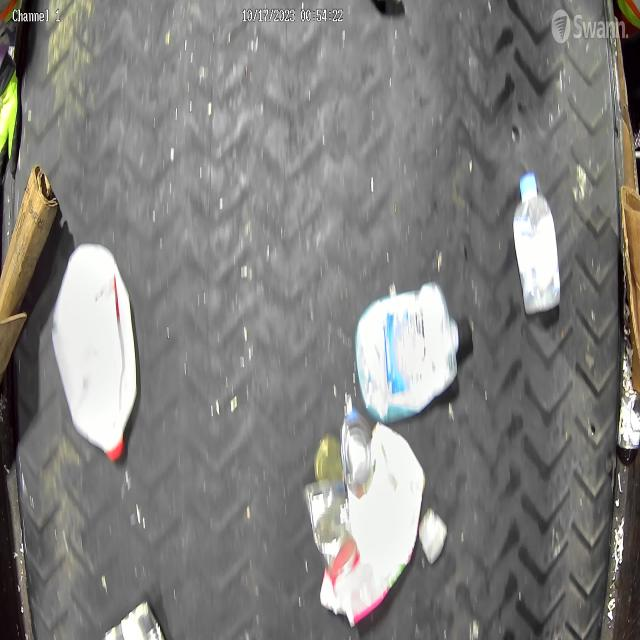milk-jug: (50, 241, 141, 466)
